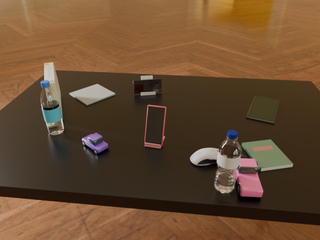book: (242, 140, 293, 171), (69, 84, 115, 105), (247, 96, 280, 123)
bottle: (214, 130, 241, 194), (40, 80, 64, 135)
box: (44, 63, 63, 120)
mouse: (190, 148, 218, 166)
phone: (145, 105, 166, 145), (133, 79, 162, 94)
toy_car: (235, 158, 263, 197), (82, 133, 108, 154)
